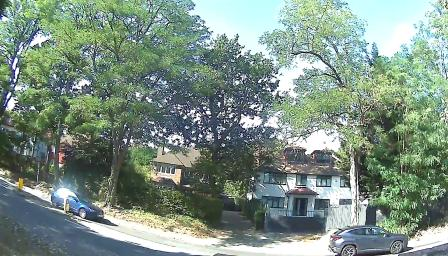Cars: (313, 220, 422, 256), (57, 180, 114, 230)
